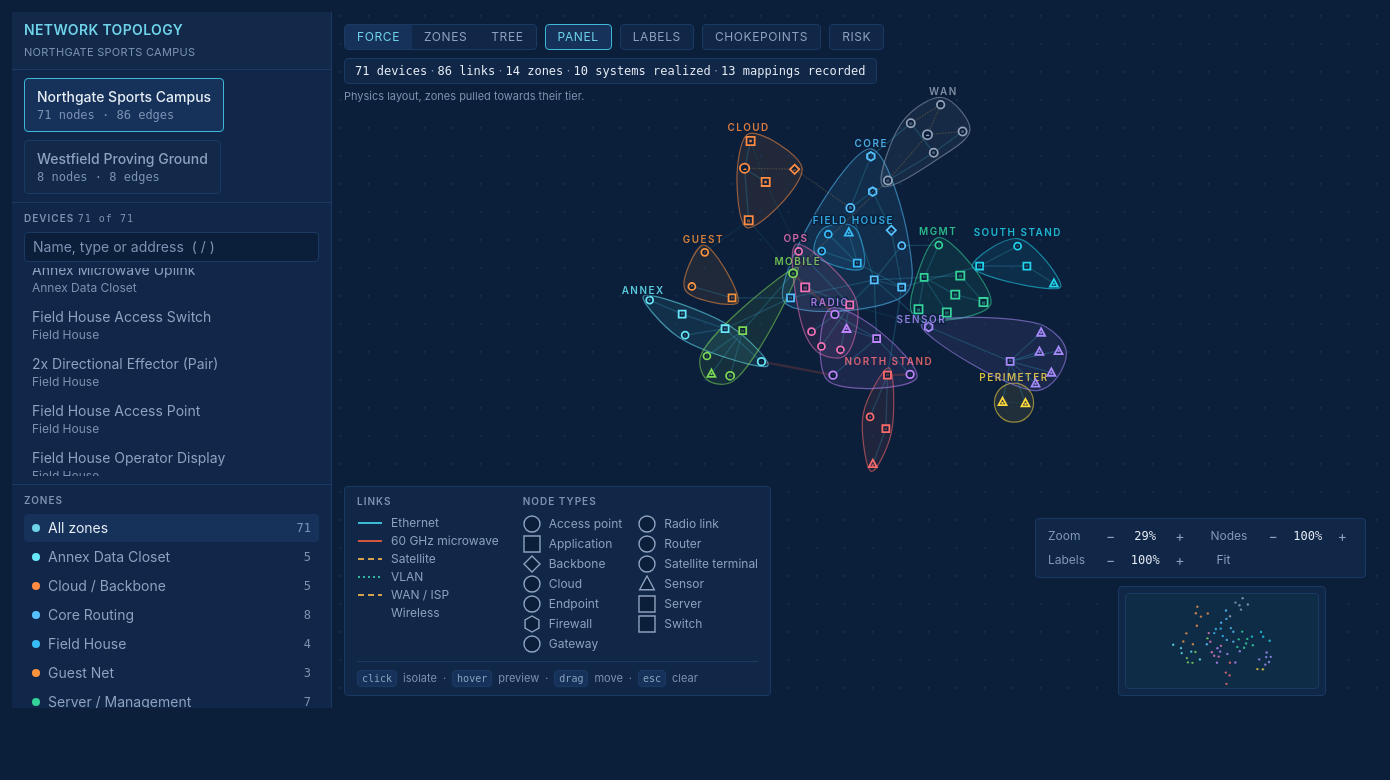
Test: Network Topology › shows device detail including the systems it implements
This screenshot has width=1390, height=780.
(page scrolled)
Click the button "2x Directional Effector (Pair) Field House". click: (172, 372)
box: [24, 350, 319, 394]
(page scrolled)
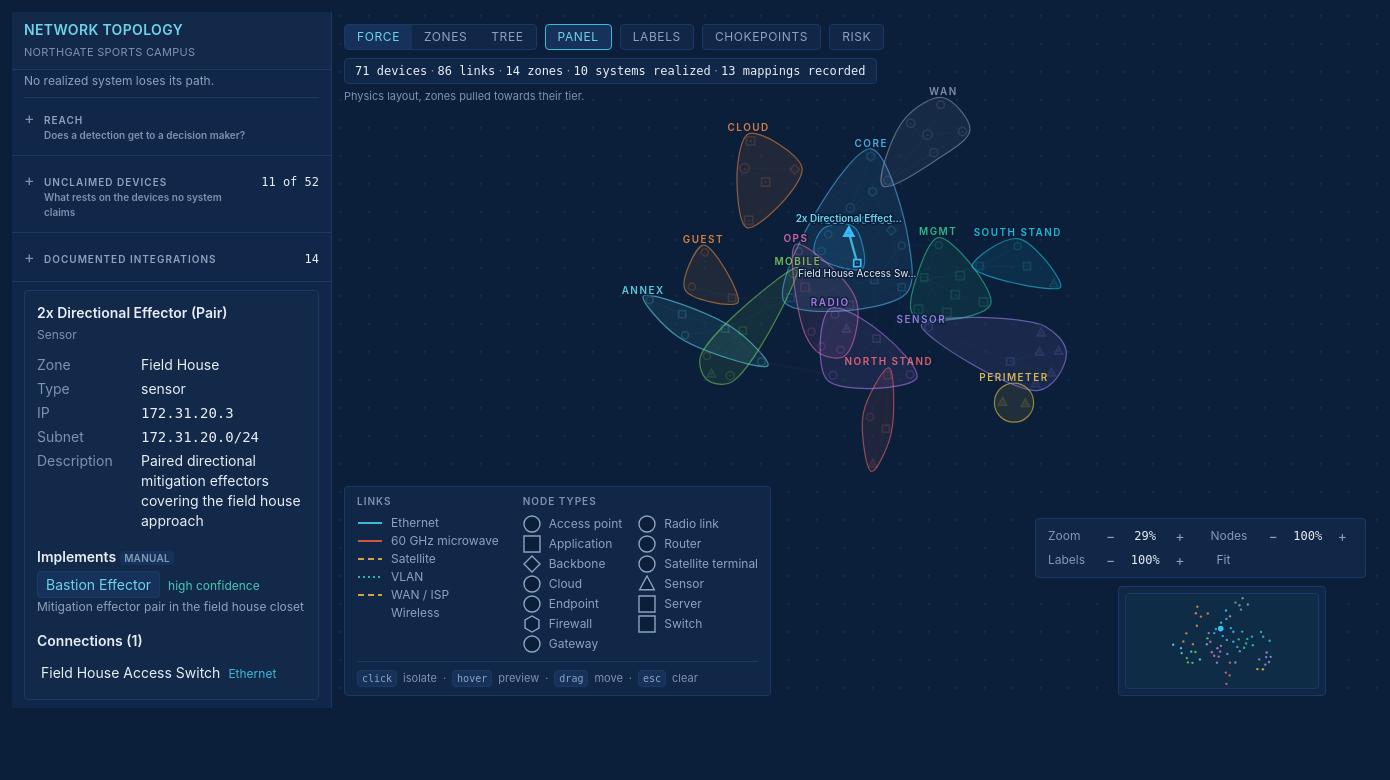
Check: the text "Field House" is shown, box [141, 356, 219, 373]
Check: the heading "Implements" is shown, box [37, 548, 116, 565]
Check: the heading "Connections (1)" is shown, box [37, 632, 143, 649]
